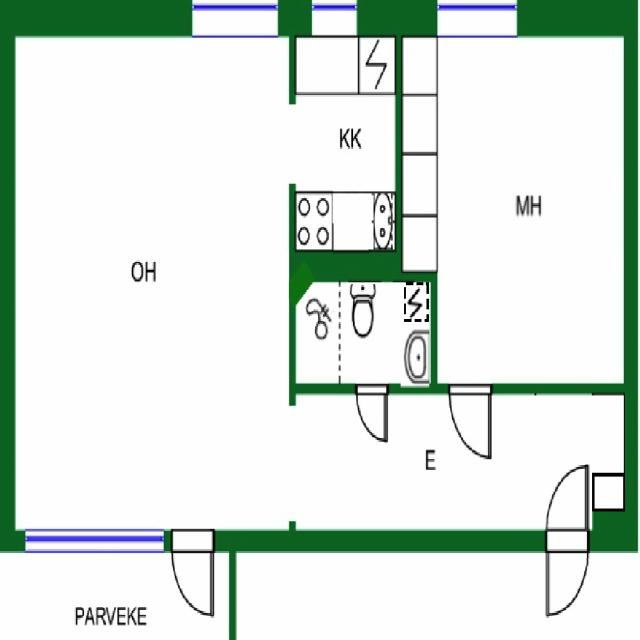door: (546, 530, 588, 614), (546, 467, 588, 551), (172, 530, 213, 614), (450, 384, 490, 456), (357, 384, 387, 440)
